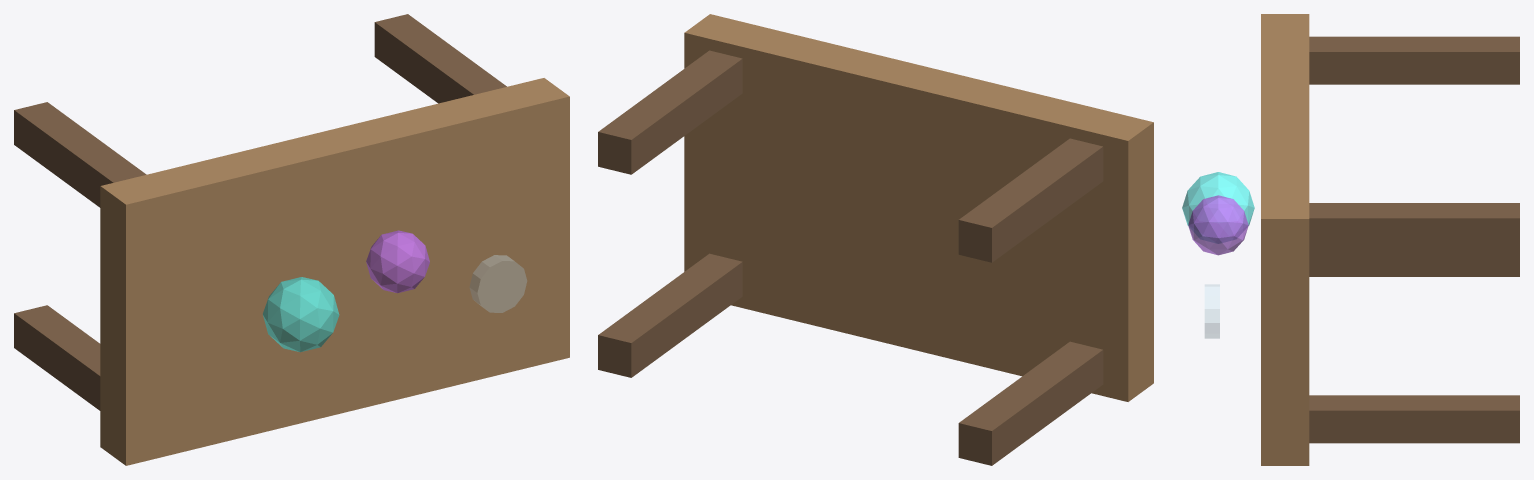
The model's file is 07_jewelcraft_bench.glb.
The picture shows the model from 3 angles, left to right: view 1: azimuth 30°, elevation 25°; view 2: azimuth 150°, elevation 25°; view 3: azimuth 270°, elevation 25°; orthographic projection. The views are drawn at different scales.
Parts seen in each view (by area): view 1: table_top, leg_3, leg_4, leg_1, gem_a, gem_b, magnifier; view 2: table_top, leg_1, leg_3, leg_2, leg_4; view 3: table_top, leg_2, leg_3, leg_4, leg_1, gem_a, gem_b, magnifier.
Part boxes in pixels (left/top/right/bottom): table_top: left=100, top=78, right=569, bottom=465; leg_3: left=14, top=102, right=146, bottom=207; leg_4: left=374, top=14, right=506, bottom=103; leg_1: left=14, top=305, right=100, bottom=410; gem_a: left=262, top=277, right=339, bottom=352; gem_b: left=366, top=230, right=429, bottom=293; magnifier: left=469, top=255, right=526, bottom=312; table_top: left=684, top=14, right=1153, bottom=401; leg_1: left=958, top=341, right=1103, bottom=465; leg_3: left=958, top=138, right=1103, bottom=262; leg_2: left=598, top=253, right=742, bottom=377; leg_4: left=598, top=50, right=742, bottom=174; table_top: left=1261, top=14, right=1309, bottom=465; leg_2: left=1309, top=395, right=1519, bottom=443; leg_3: left=1309, top=36, right=1519, bottom=84; leg_4: left=1309, top=203, right=1519, bottom=251; leg_1: left=1309, top=251, right=1519, bottom=276; gem_a: left=1182, top=172, right=1254, bottom=243; gem_b: left=1188, top=195, right=1248, bottom=255; magnifier: left=1205, top=284, right=1219, bottom=338.
Size of the model in its own units: 1.6 by 0.9 by 1.12.
